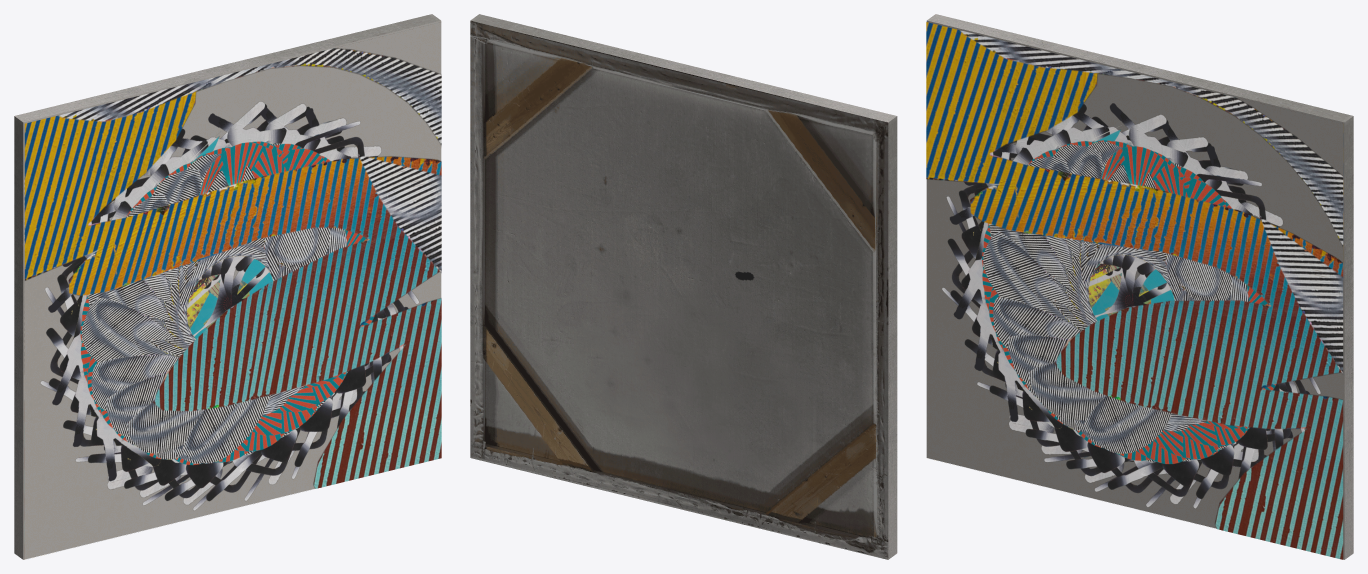
File: she-watches-997d4a2d.glb
3 views of the same model, side by side, from view 1: azimuth 30°, elevation 25°; view 2: azimuth 150°, elevation 25°; view 3: azimuth 330°, elevation 25° (orthographic).
Visible parts, largest first — view 1: Canvas, stretcher; view 2: stretcher; view 3: Canvas, stretcher.
Part boxes in pixels (x1=…): Canvas: x1=24, y1=48, x2=441, y2=510; stretcher: x1=14, y1=14, x2=441, y2=559; stretcher: x1=470, y1=14, x2=897, y2=559; Canvas: x1=926, y1=22, x2=1343, y2=559; stretcher: x1=926, y1=14, x2=1353, y2=559.
Size of the model in its own units: 3.04 by 3.04 by 0.155.
4 materials, 4 textured.
